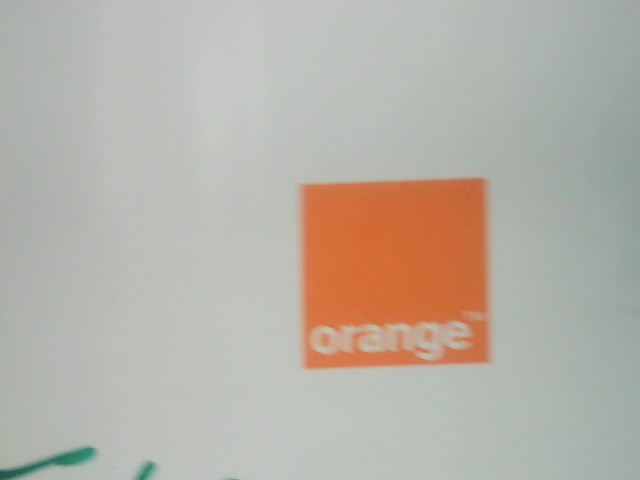AR_Orange: (294, 176, 501, 371)
